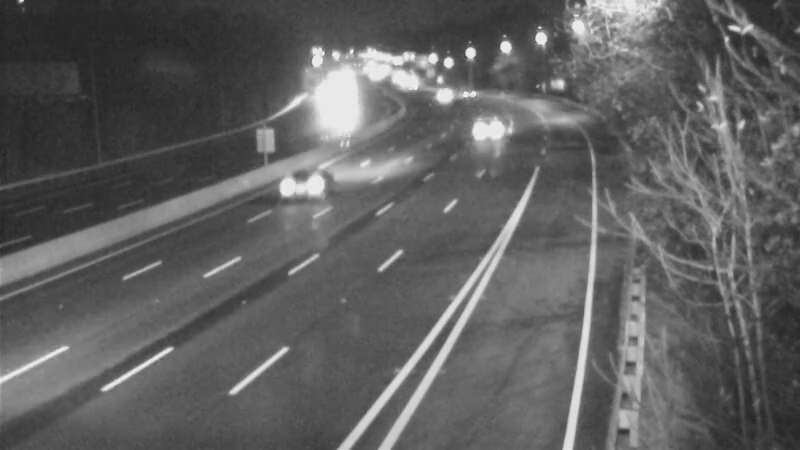vehicle: (260, 142, 340, 222), (419, 65, 469, 115), (442, 68, 492, 118), (459, 94, 509, 144)
